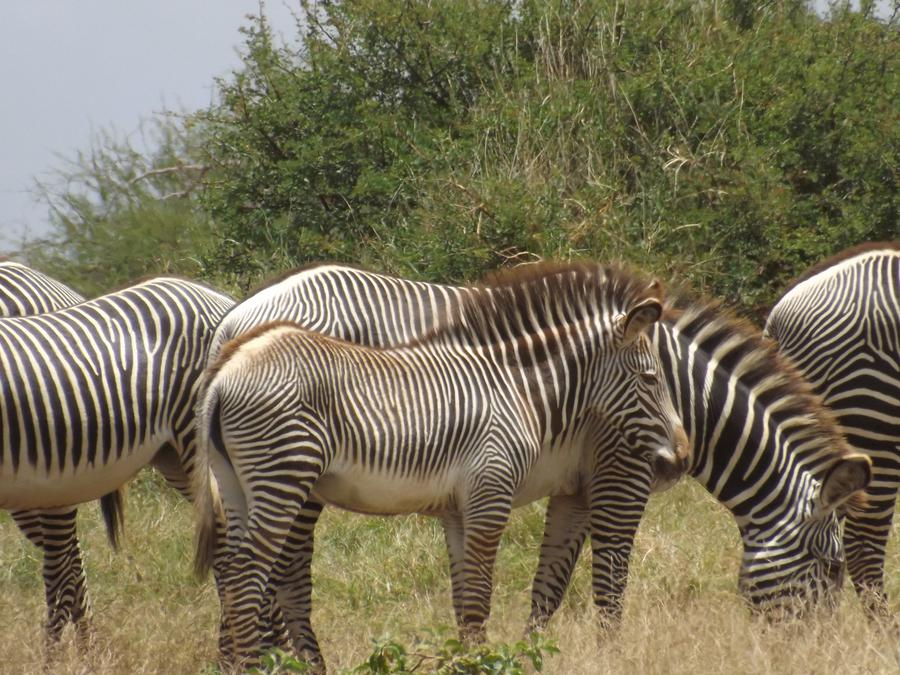zebra_grevys: (191, 343, 530, 484)
